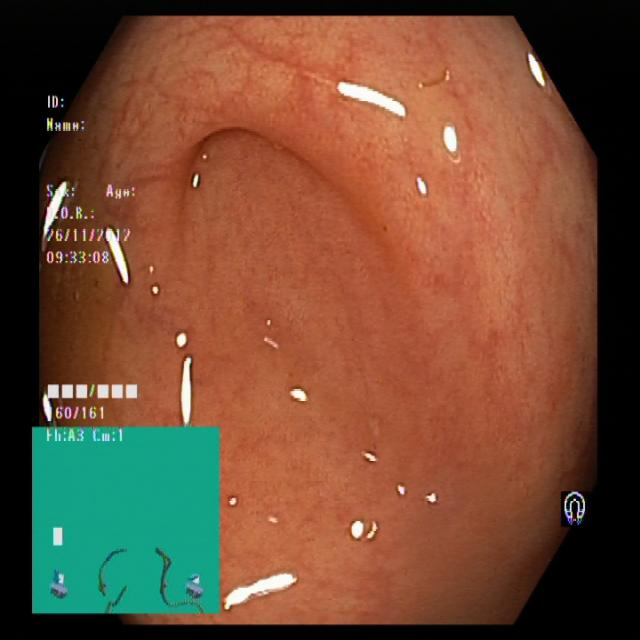normal-cecum: (38, 171, 163, 426)
